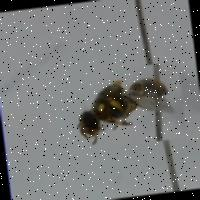Oriental-fruit-fly: (59, 60, 187, 152)
